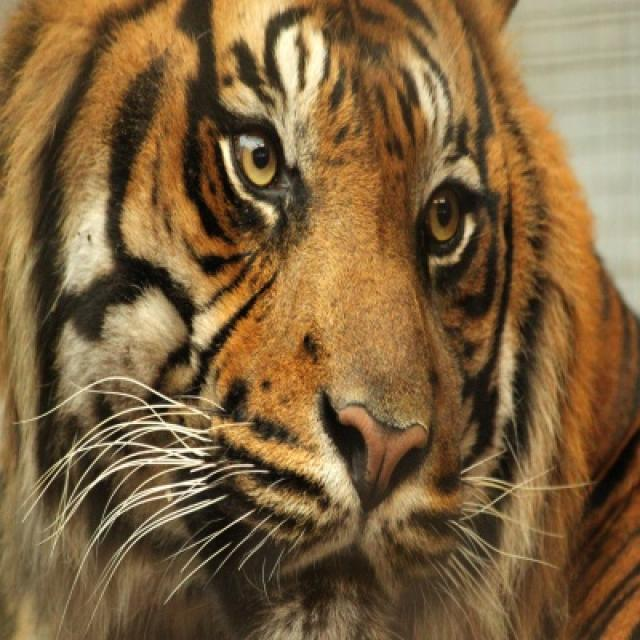Tiger: (3, 1, 638, 623)
